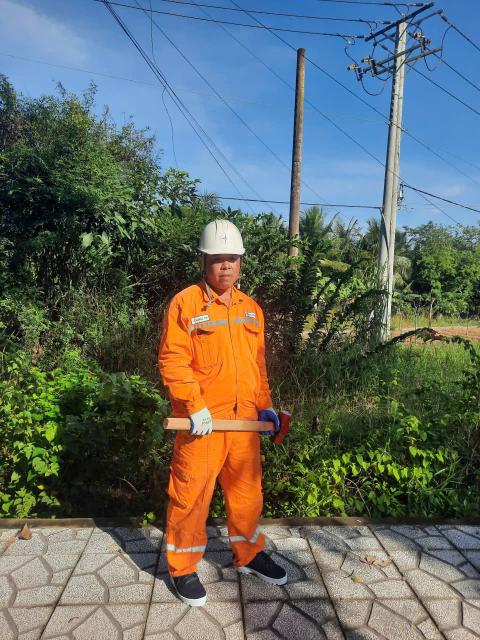gloves: (175, 405, 219, 445), (255, 396, 282, 441)
helmet: (195, 213, 247, 263)
shoes: (227, 543, 296, 590), (171, 558, 218, 607)
